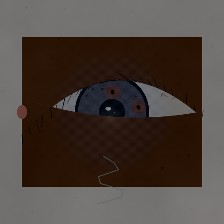foreign_body_visible: (126, 97, 151, 117)
